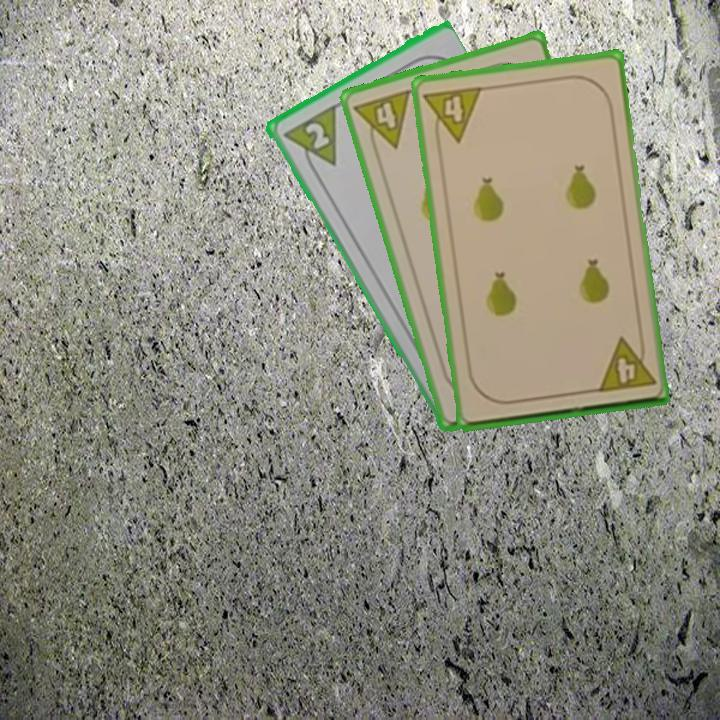2p: (278, 102, 340, 179)
4p: (350, 85, 414, 157), (420, 83, 485, 148), (593, 332, 658, 395)
